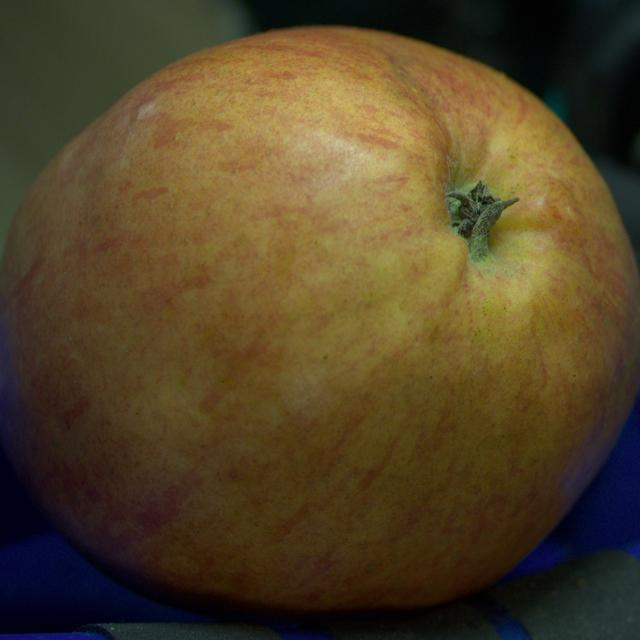apple: (0, 28, 639, 615)
